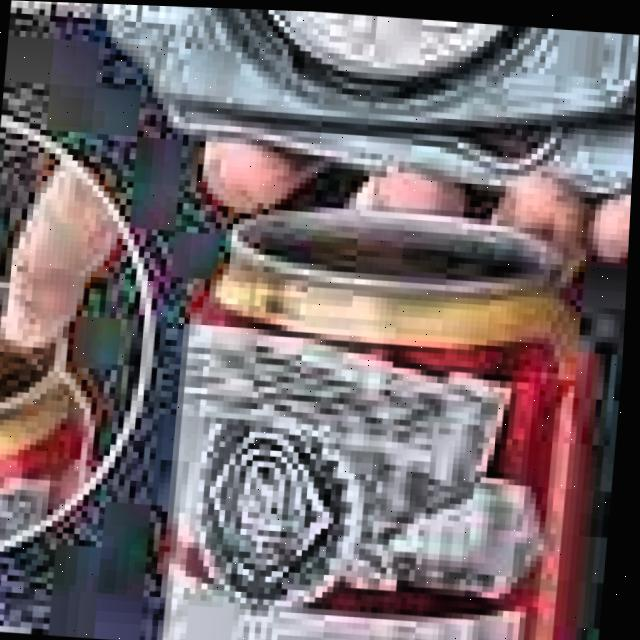metal: (146, 165, 621, 640), (0, 252, 118, 603)
